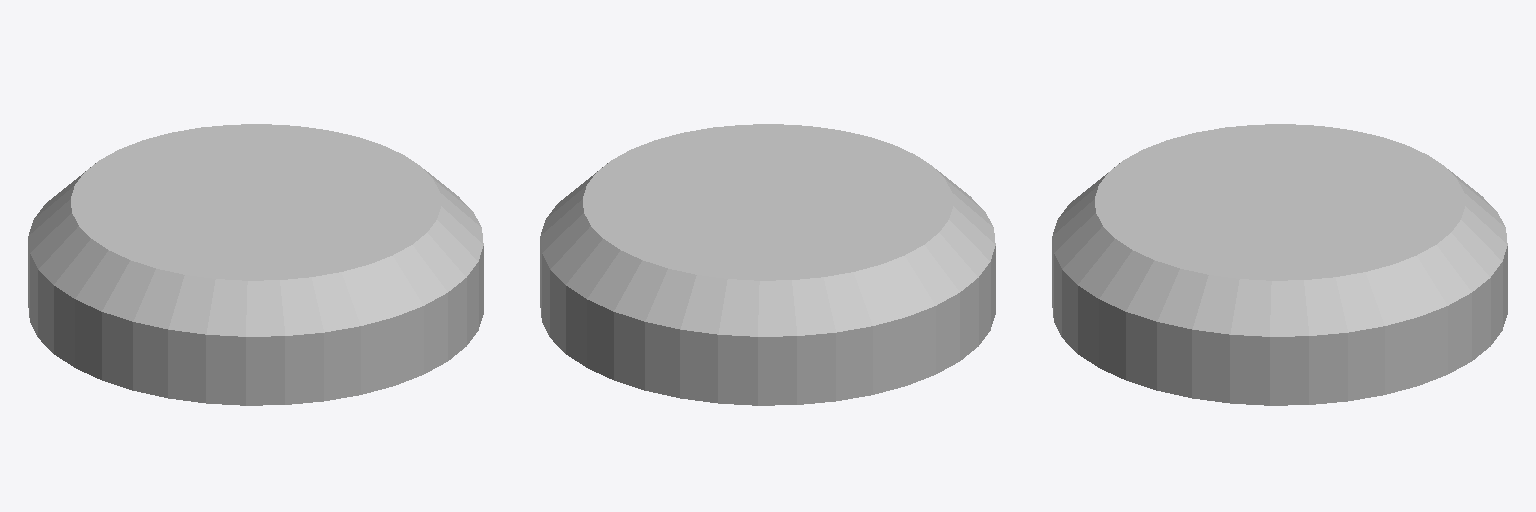
The model's file is original-106.obj.
3 renders of one model, left to right at view 1: azimuth 30°, elevation 25°; view 2: azimuth 150°, elevation 25°; view 3: azimuth 270°, elevation 25°, orthographic.
Visible parts, largest first — view 1: #ID532; view 2: #ID532; view 3: #ID532.
Boxes of the visible parts, x1,y1,x2,y2 form: #ID532: [28, 124, 483, 405]; #ID532: [540, 124, 995, 405]; #ID532: [1052, 124, 1507, 405].
Bounding box in the file's own units: 0.0836 × 0.0217 × 0.0836.